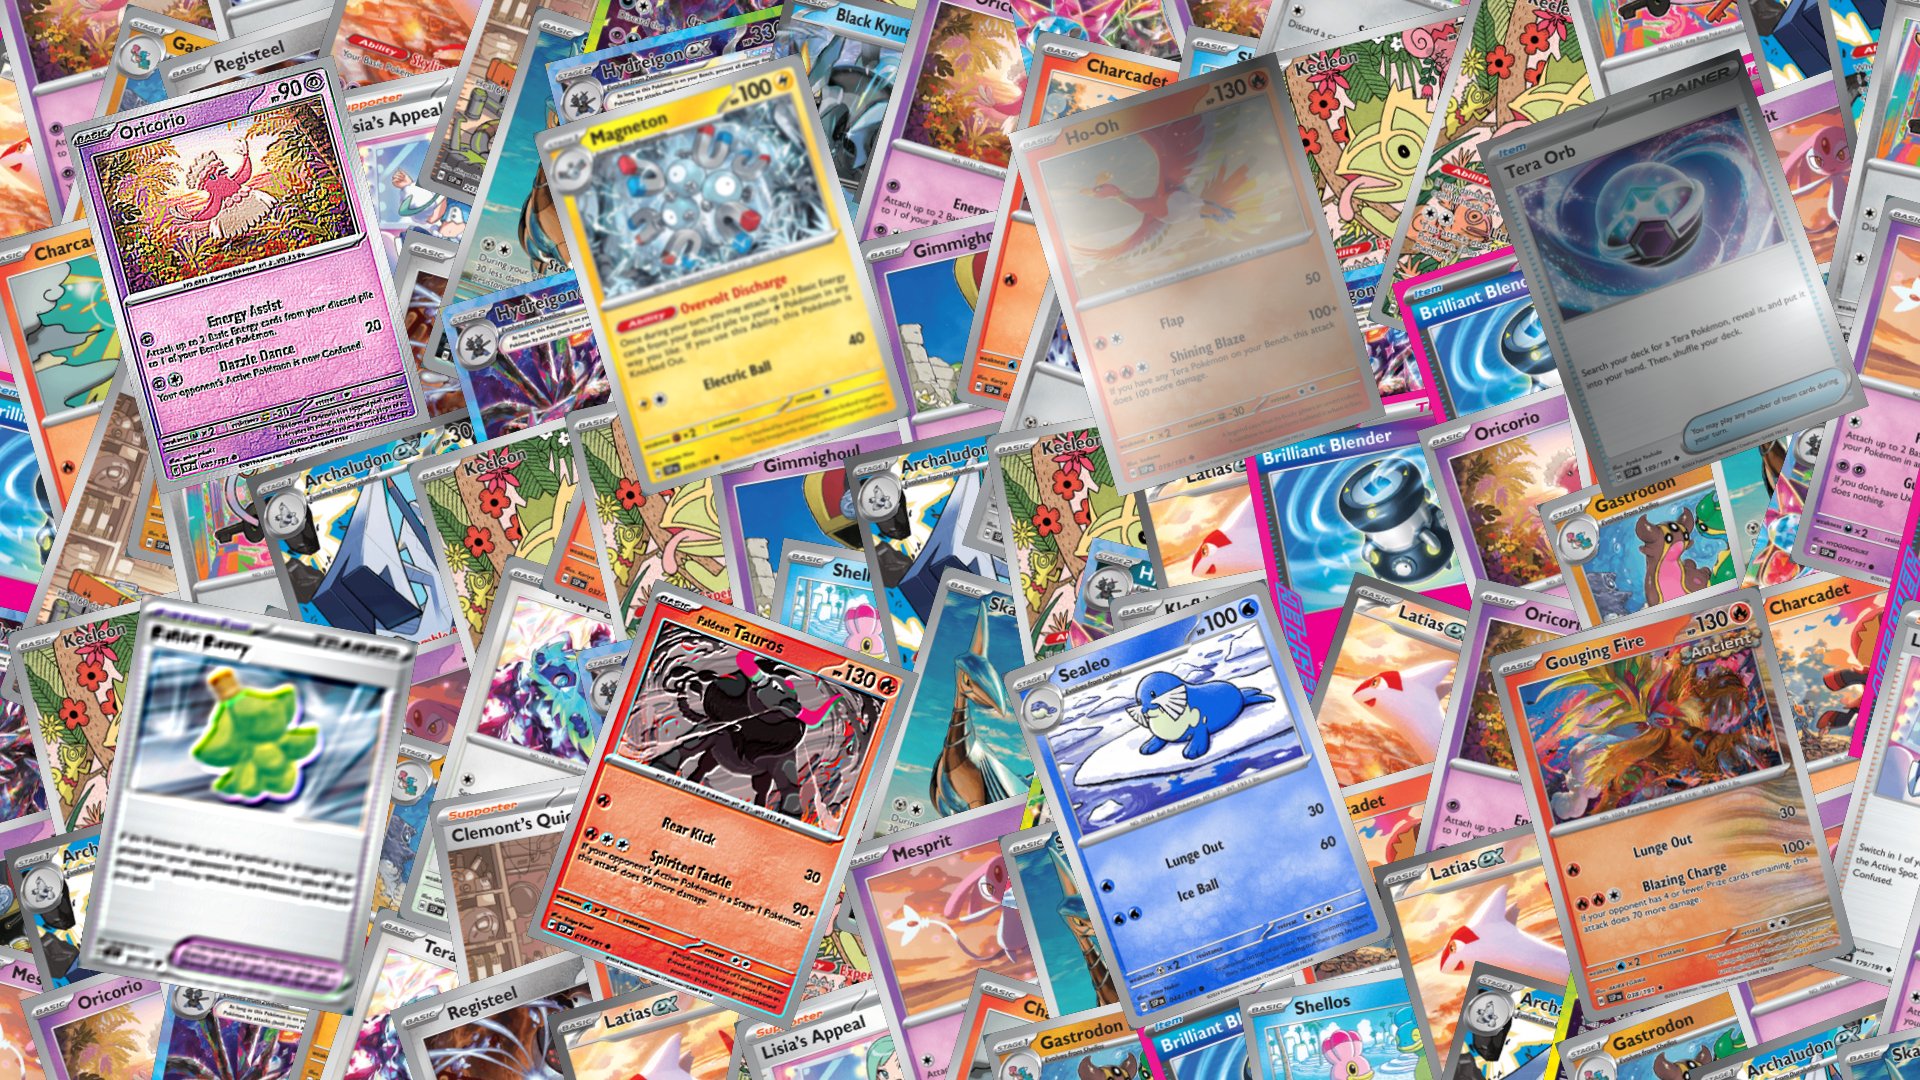Babiri_Berry: (76, 593, 418, 1015)
Gouging_Fire: (1487, 584, 1855, 1025)
Ho-Oh: (1007, 51, 1386, 497)
Magneton: (531, 51, 911, 497)
Oricorio: (62, 54, 431, 495)
Paldean_Tauros: (525, 578, 919, 1031)
Sealeo: (1000, 578, 1394, 1031)
Tera_Orb: (1476, 47, 1869, 501)
